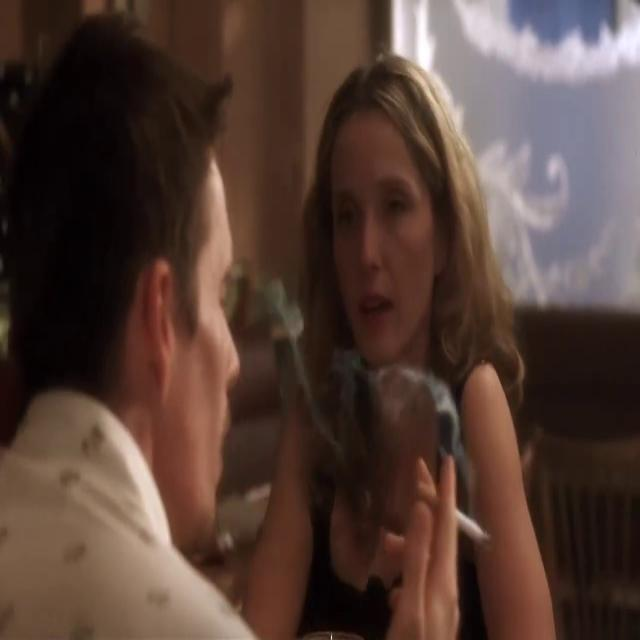Smooking: (452, 497, 492, 558)
